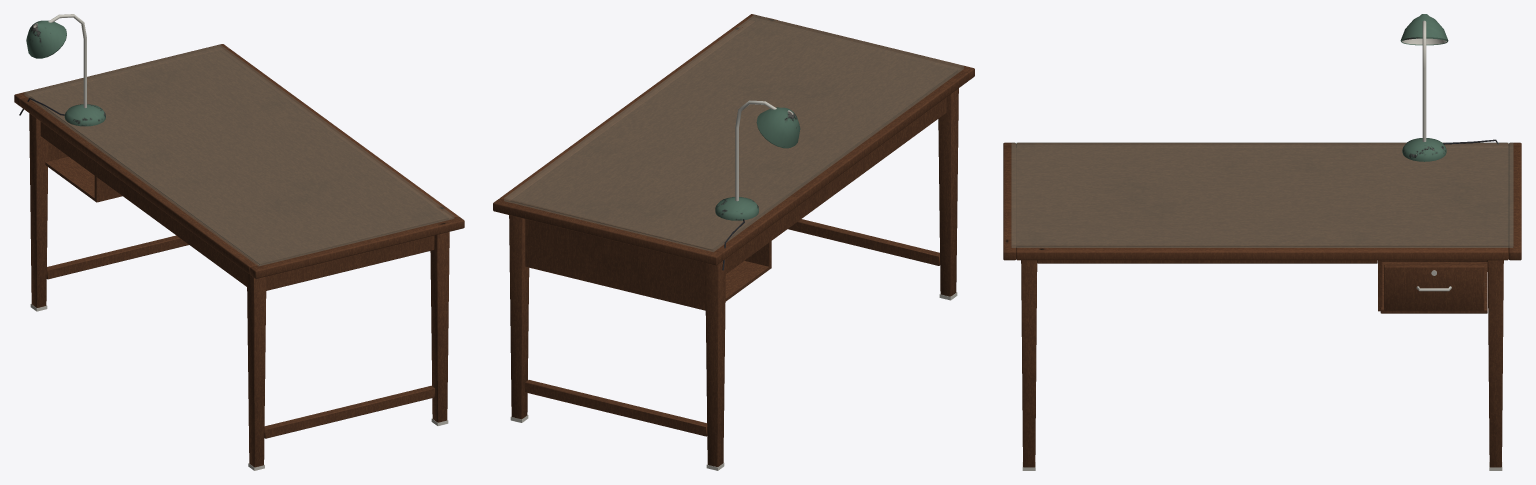
File: LSB_ENV_PRP_ShiftDesk_v01.fbx
3 views of the same model, side by side, from view 1: azimuth 30°, elevation 25°; view 2: azimuth 150°, elevation 25°; view 3: azimuth 270°, elevation 25° (orthographic). The views are drawn at different scales.
Parts seen in each view (by area): view 1: Desk, GlassPlate, DeskLamp; view 2: Desk, GlassPlate, DeskLamp; view 3: Desk, GlassPlate, Drawer, DeskLamp.
Part boxes in pixels (x1=…): Desk: x1=14, y1=44, x2=464, y2=470; GlassPlate: x1=24, y1=45, x2=454, y2=265; DeskLamp: x1=19, y1=14, x2=105, y2=126; Desk: x1=493, y1=14, x2=974, y2=470; GlassPlate: x1=504, y1=15, x2=963, y2=251; DeskLamp: x1=715, y1=100, x2=800, y2=270; Desk: x1=1003, y1=142, x2=1521, y2=470; GlassPlate: x1=1011, y1=142, x2=1513, y2=247; Drawer: x1=1384, y1=262, x2=1484, y2=310; DeskLamp: x1=1400, y1=14, x2=1498, y2=161.
Size of the model in its own units: 0.9179 by 1.17 by 1.6.
